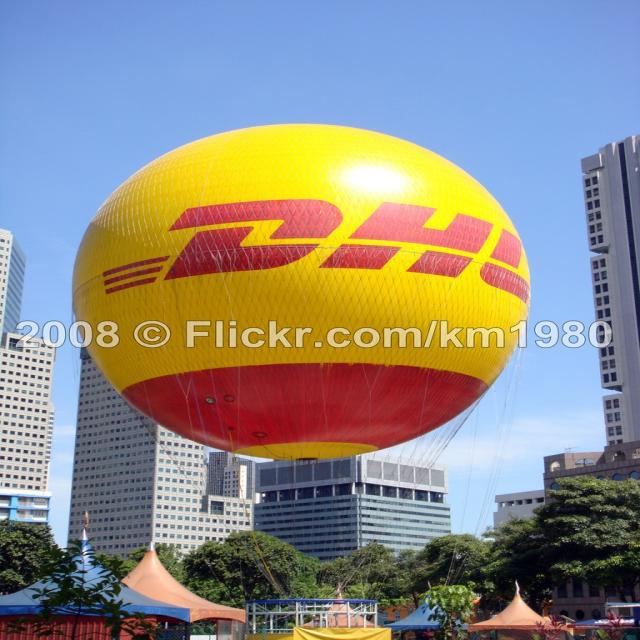dhl: (94, 193, 532, 311)
